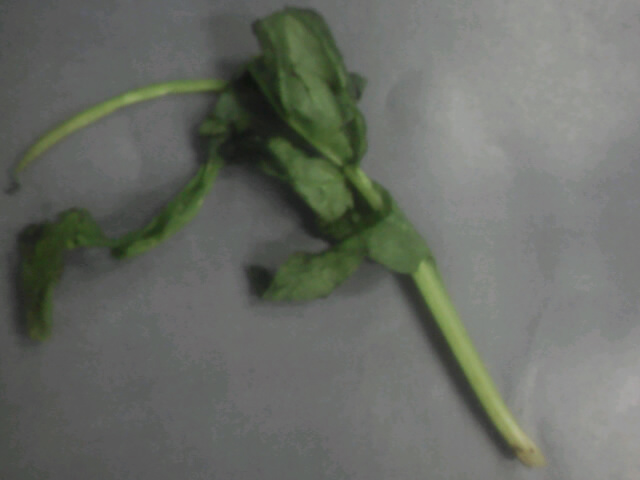yellow: (17, 31, 478, 367)
